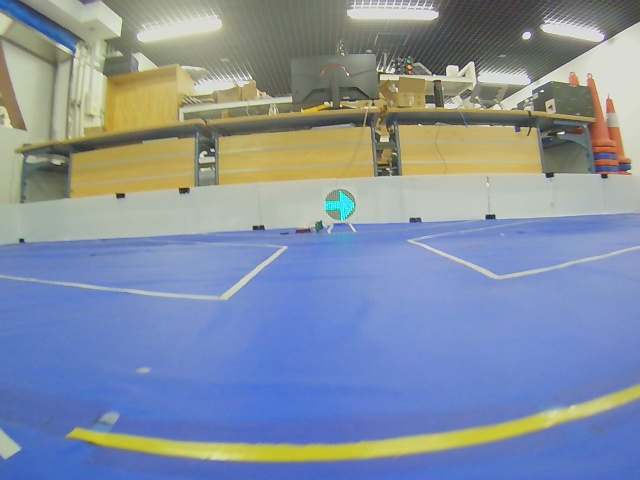right_green: (324, 189, 356, 222)
